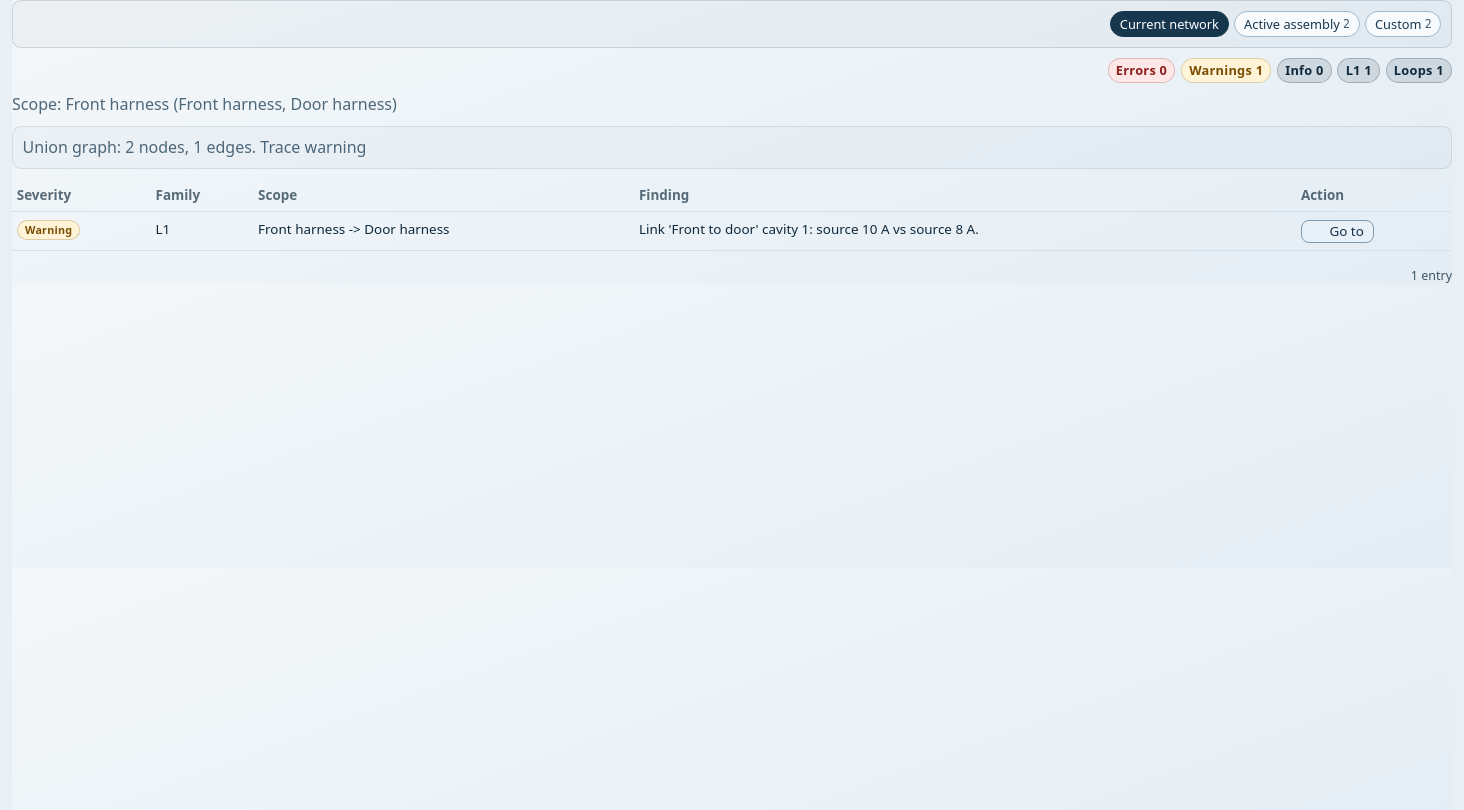
Test: MultiNetworkFunctionalAnalysisPanel › renders themed scope controls, summary chips, and L1 findings
Click the button "Active assembly 2": (1297,24) [1234,11,1360,37]
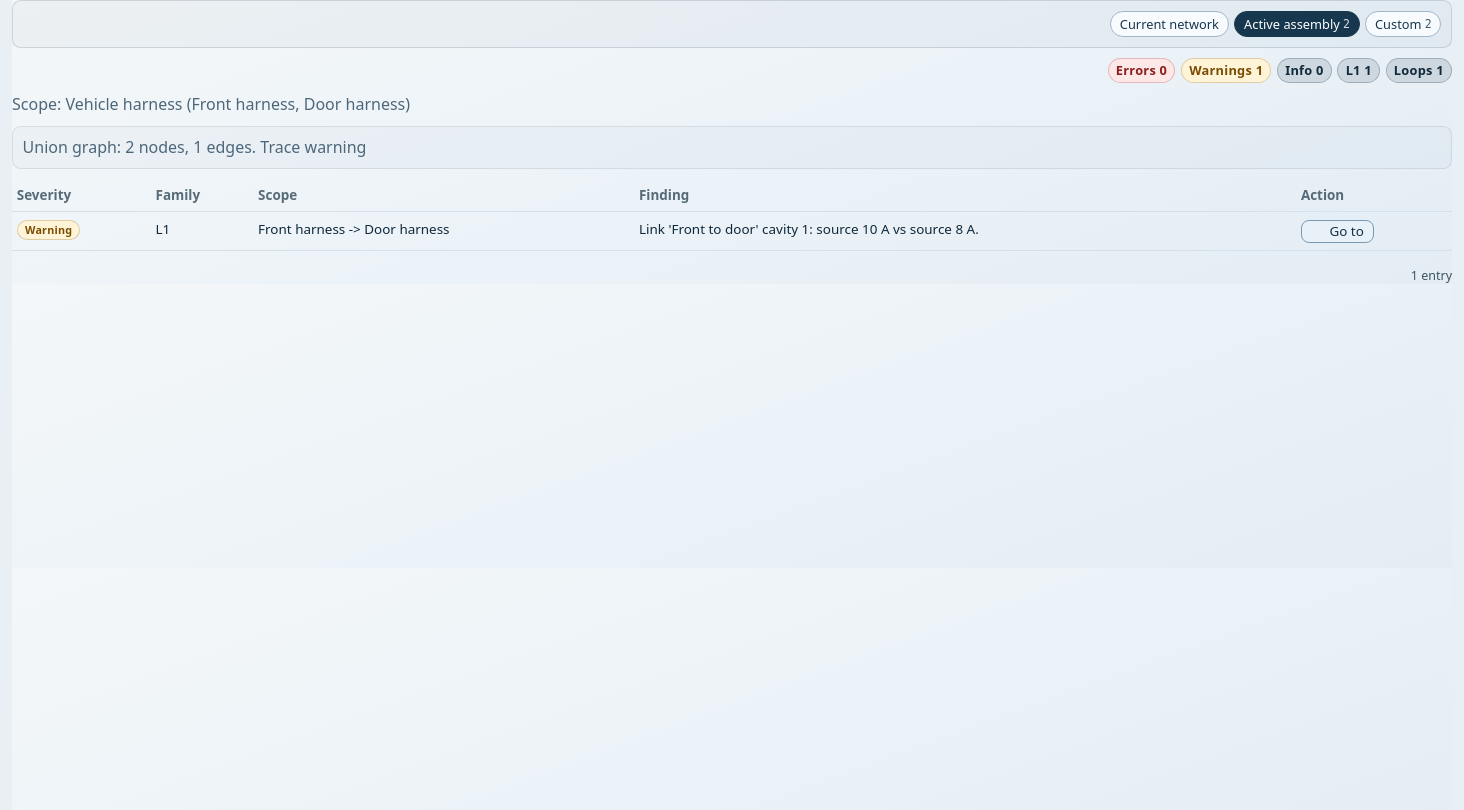
Expected: the element with class "multi-network-functional-analysis-panel" shows "Front harness -> Door harness", [258,220,450,238]
Expected: the element with class "multi-network-functional-analysis-panel" shows "Vehicle harness", [66,93,182,115]
